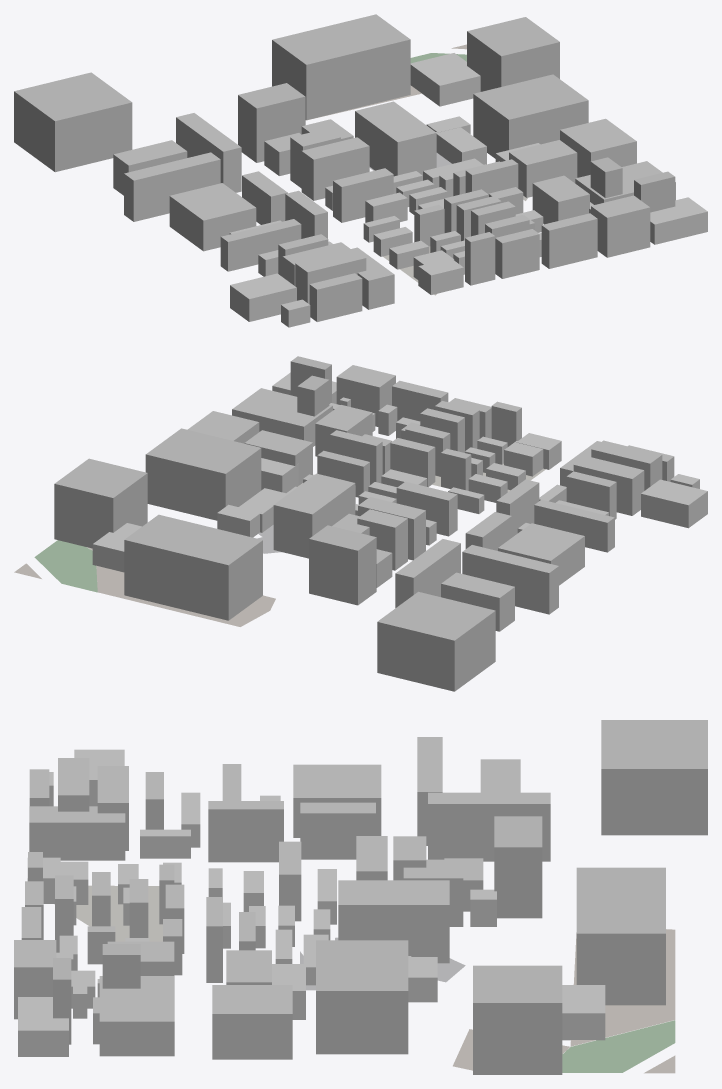
File: 114_97_mid.glb
3 renders of one model, top to bottom at view 1: azimuth 30°, elevation 25°; view 2: azimuth 150°, elevation 25°; view 3: azimuth 270°, elevation 25°, orthographic. The views are drawn at different scales.
Bounding box in the file's own units: 526 × 60.4 × 524.
